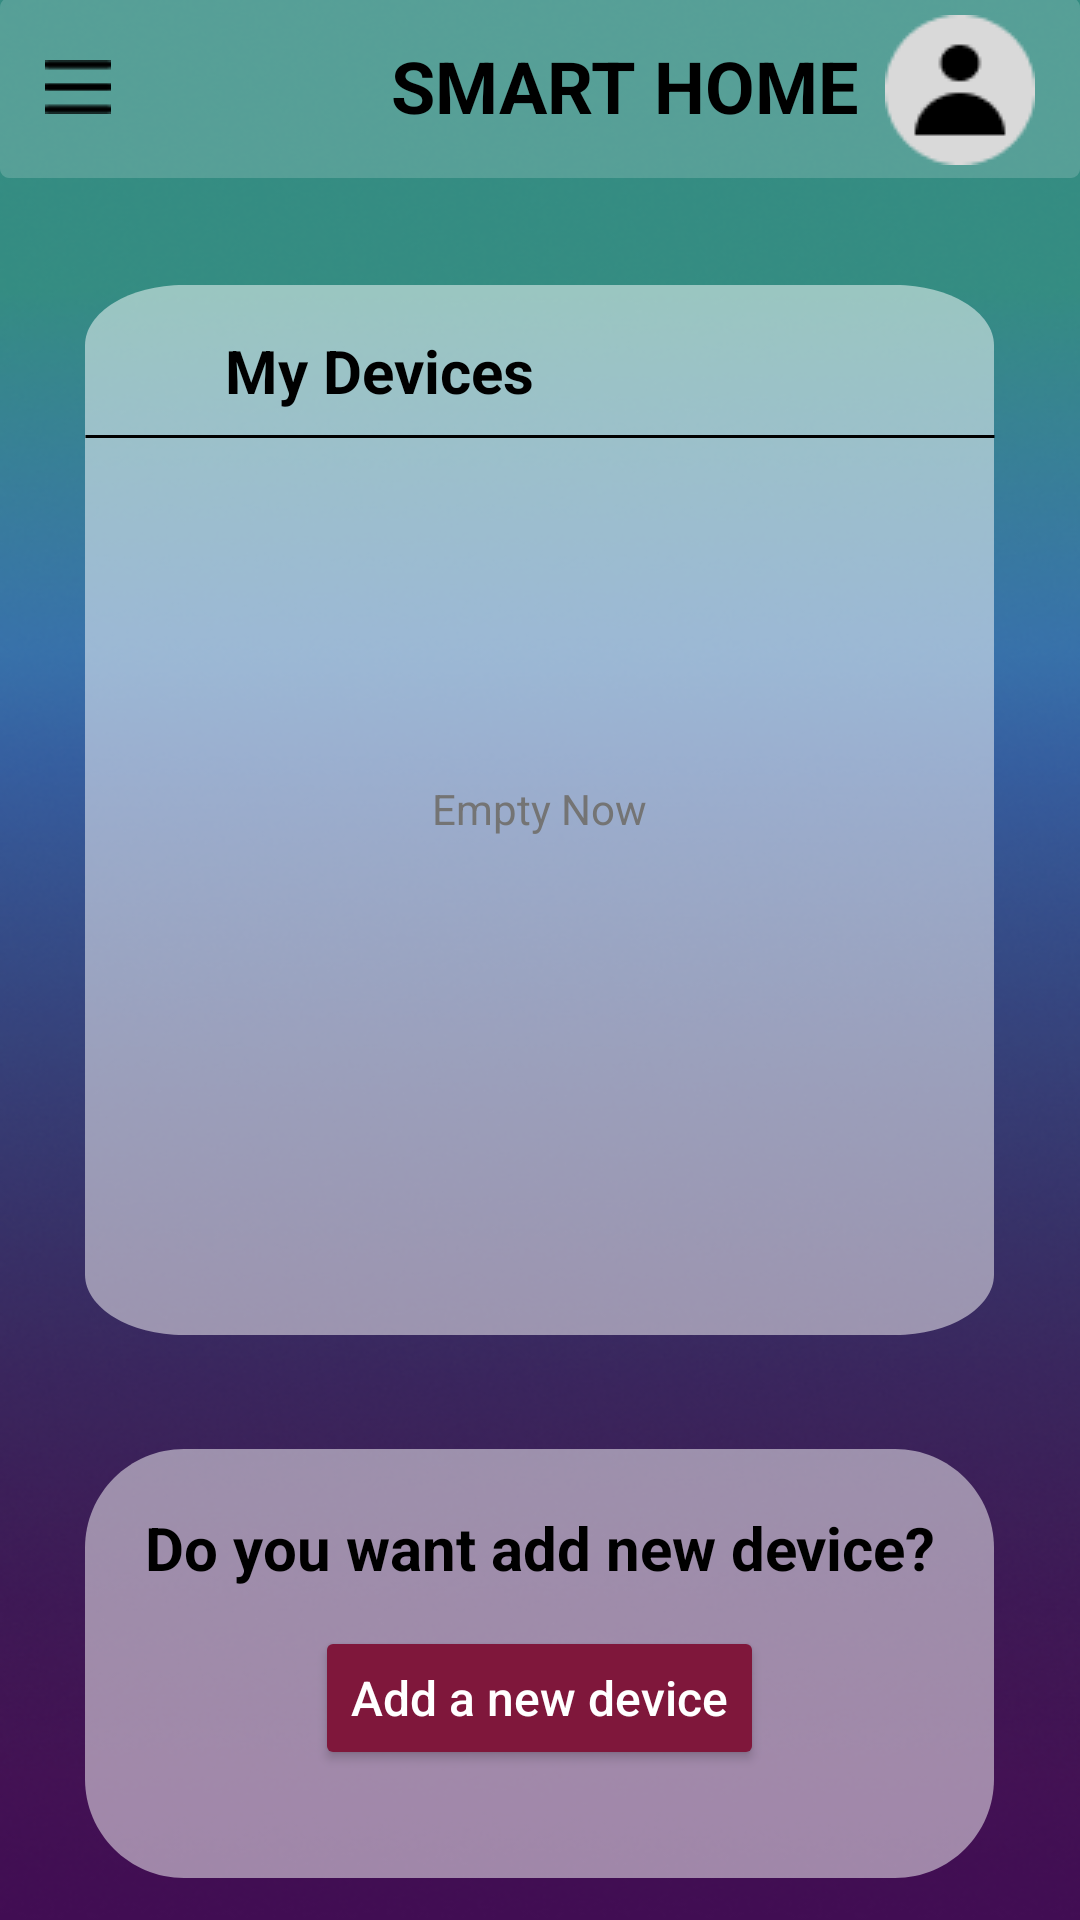

Locate icon controls on the screen. Image size 1080w x 1920h, boxes as (x1, y1, x2, y2).
more option: (45, 60, 111, 114)
user: (885, 15, 1035, 165)
